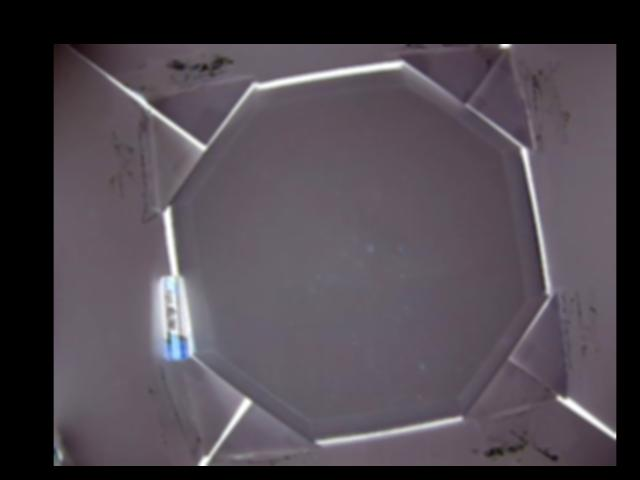Battery: (158, 276, 190, 362)
